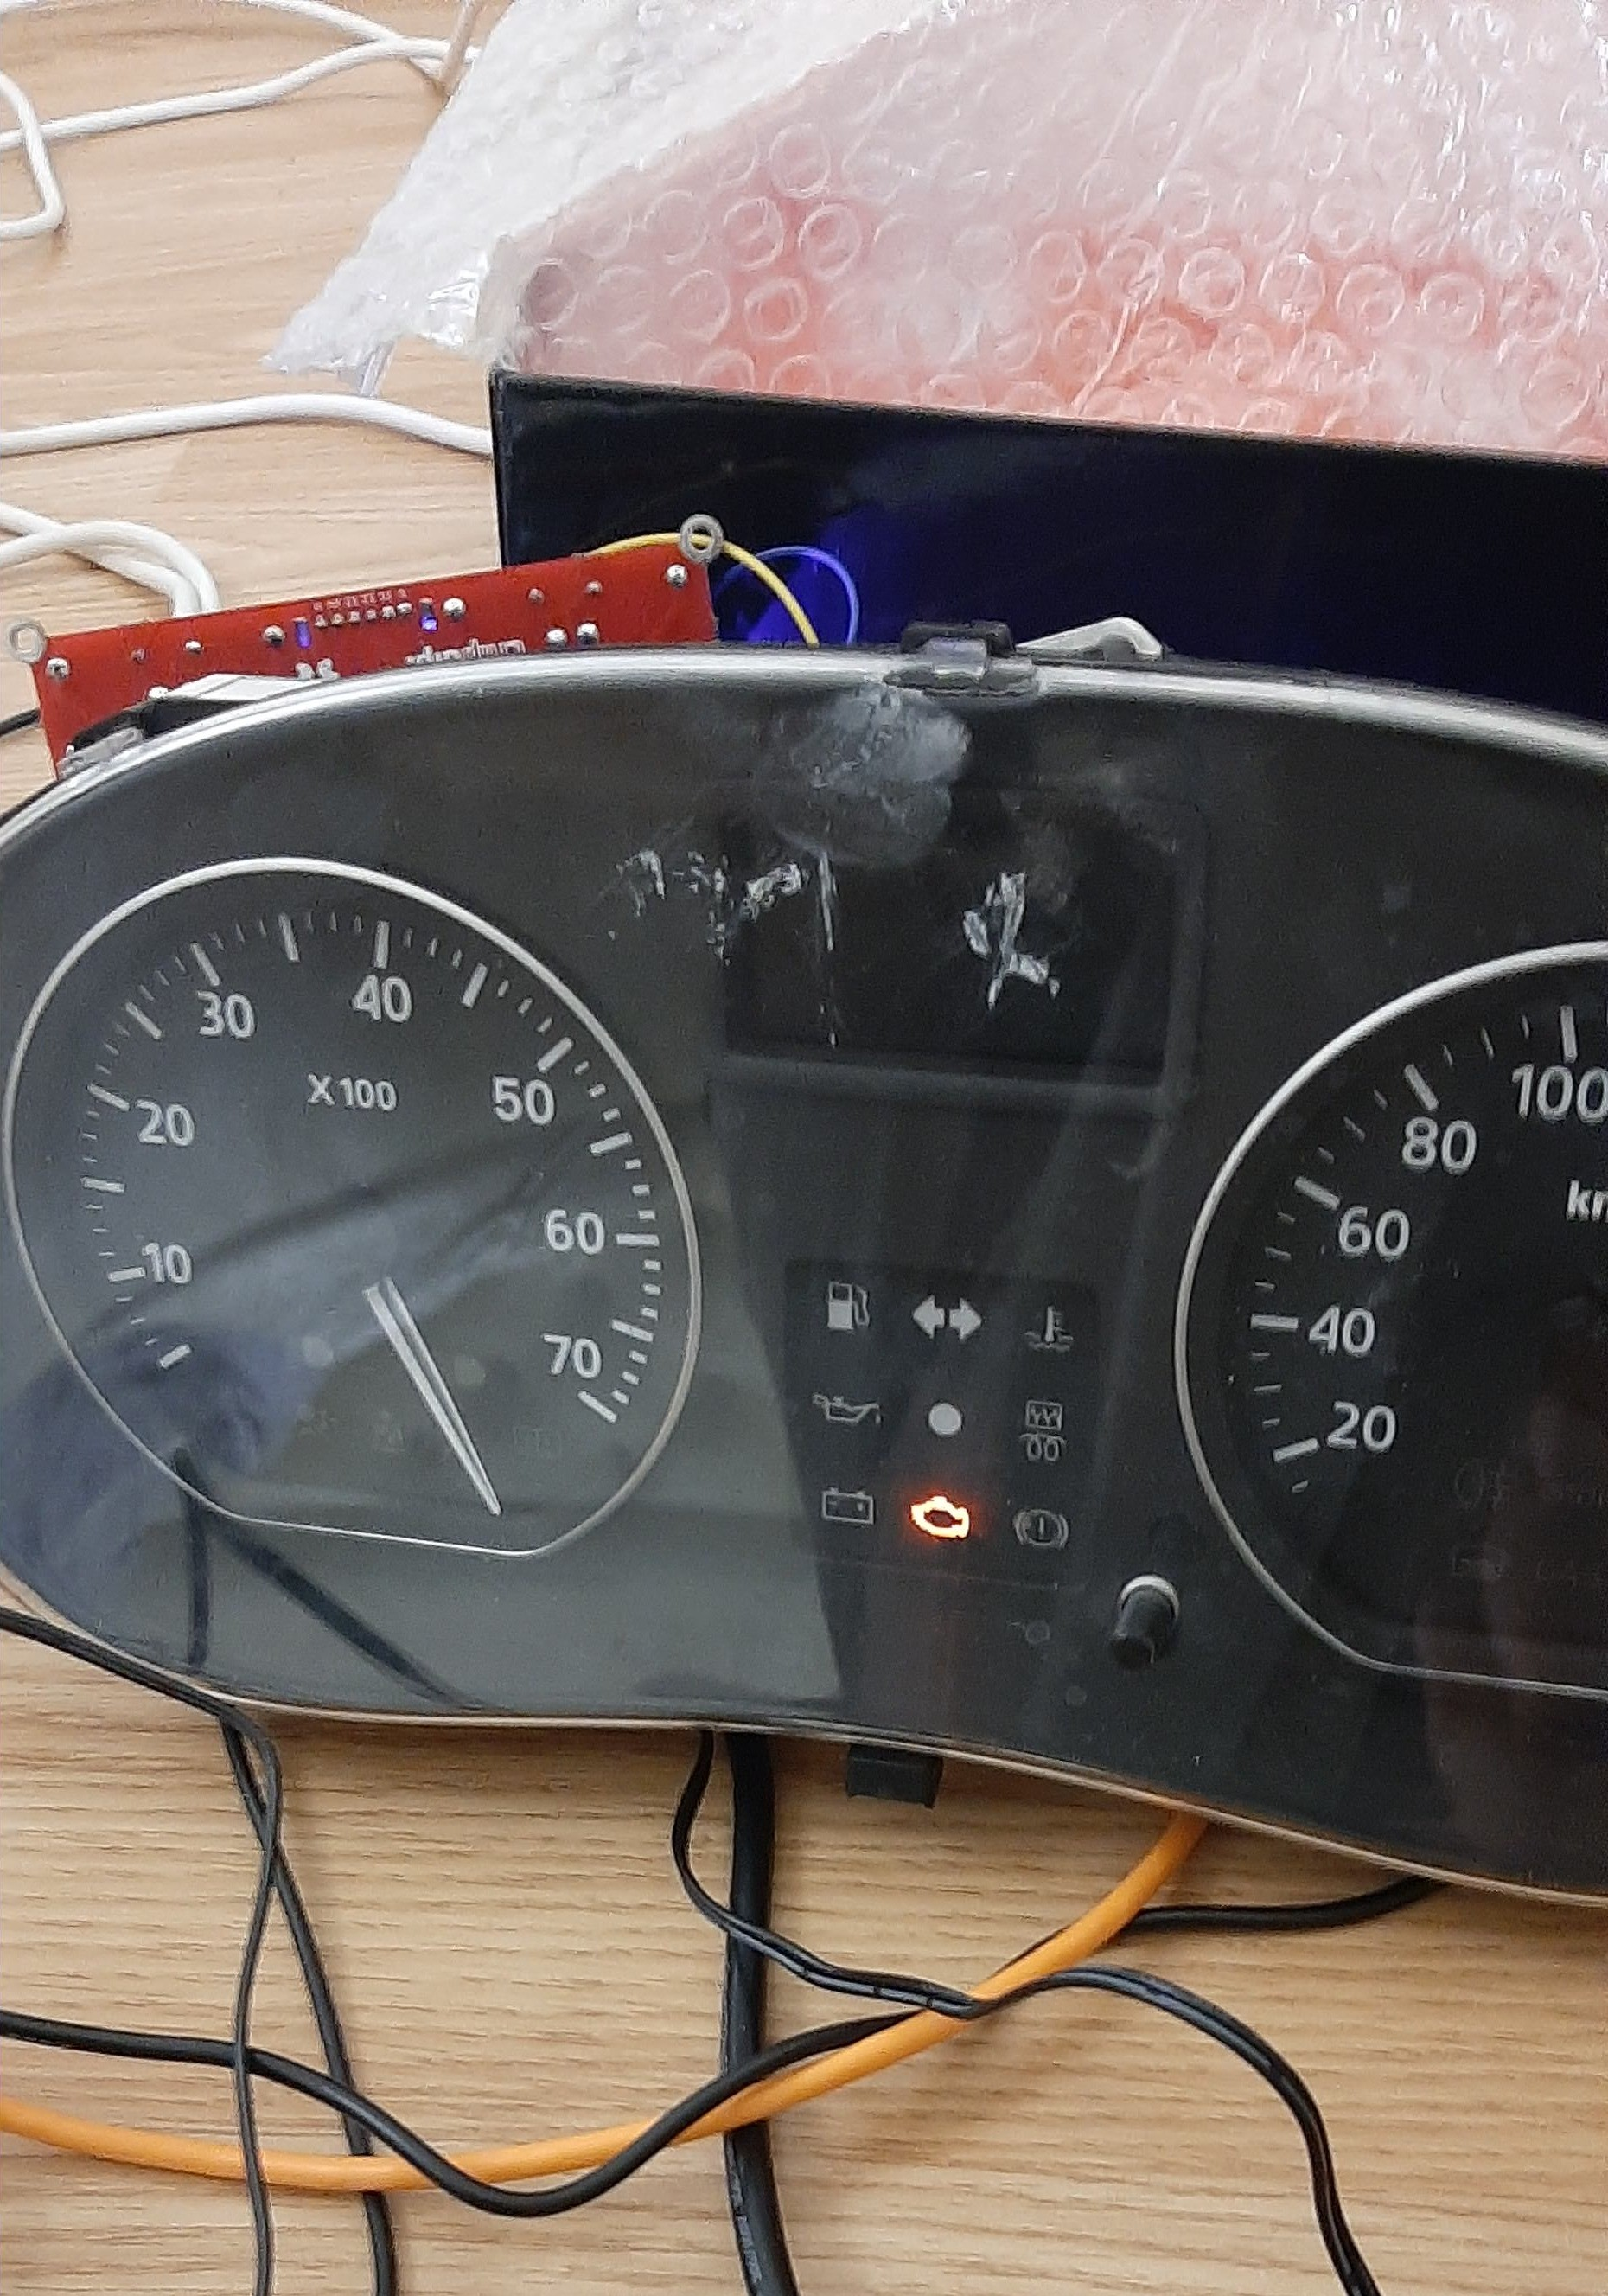engine28: (907, 1493, 973, 1541)
